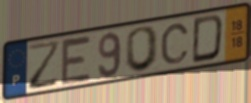9: (97, 30, 123, 79)
C: (159, 22, 191, 66)
D: (190, 12, 226, 66)
E: (59, 34, 93, 87)
O: (123, 24, 161, 74)
Z: (27, 38, 62, 92)
